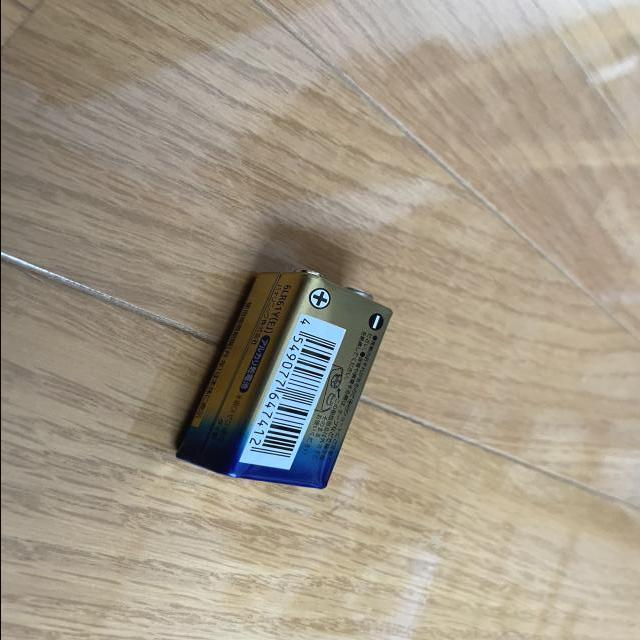9V: (173, 264, 391, 491)
